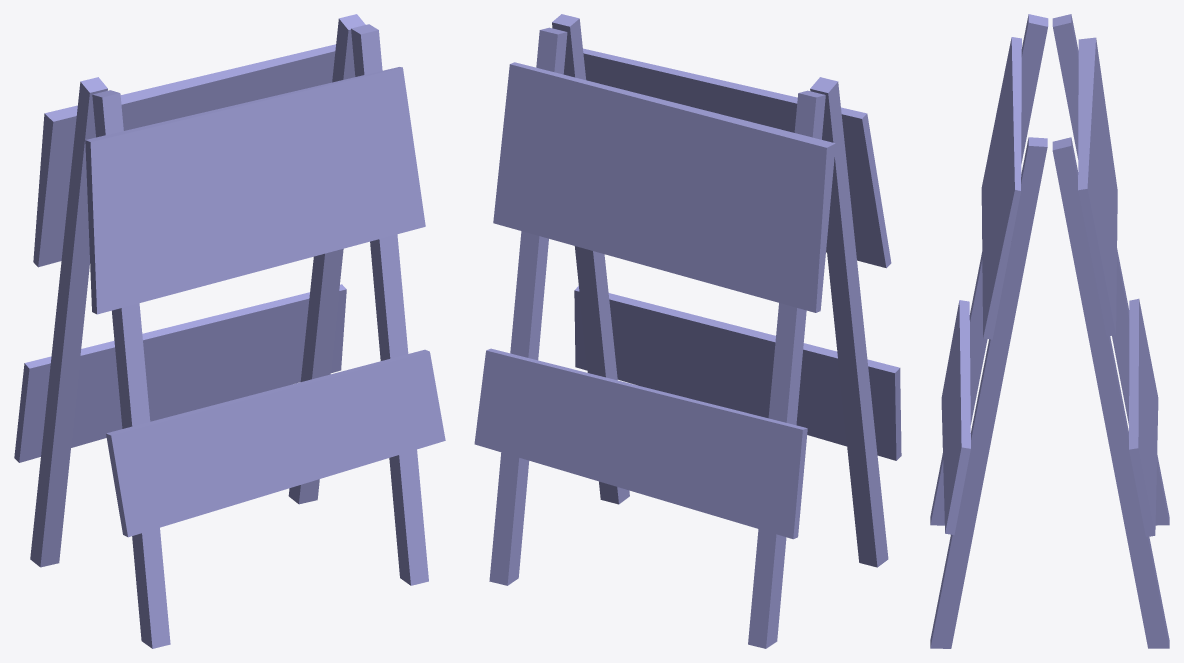
The model's file is Stand_LP.fbx.
3 views of the same model, side by side, from view 1: azimuth 30°, elevation 25°; view 2: azimuth 150°, elevation 25°; view 3: azimuth 270°, elevation 25° (orthographic). The views are drawn at different scales.
Parts seen in each view (by area): view 1: pCube24; view 2: pCube24; view 3: pCube24.
Part boxes in pixels (x1,y1,x2,y2): pCube24: (14, 14, 445, 648); pCube24: (474, 14, 901, 648); pCube24: (930, 14, 1169, 648).
Bounding box in the file's own units: 66.19 × 42.55 × 98.73.
